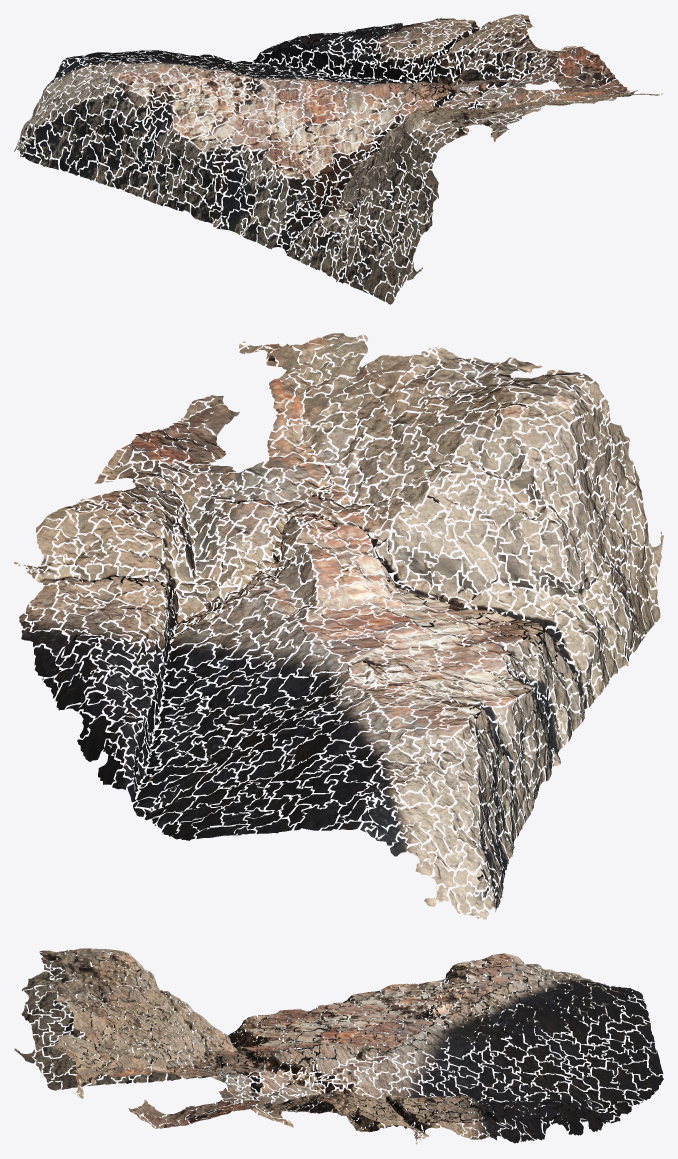
Rendered from gst10.glb.
3 renders of one model, top to bottom at view 1: azimuth 30°, elevation 25°; view 2: azimuth 150°, elevation 25°; view 3: azimuth 270°, elevation 25°, orthographic. The views are drawn at different scales.
Bounding box in the file's own units: 0.4805 × 0.175 × 0.593.
Materials: 1 (1 with a texture image).
